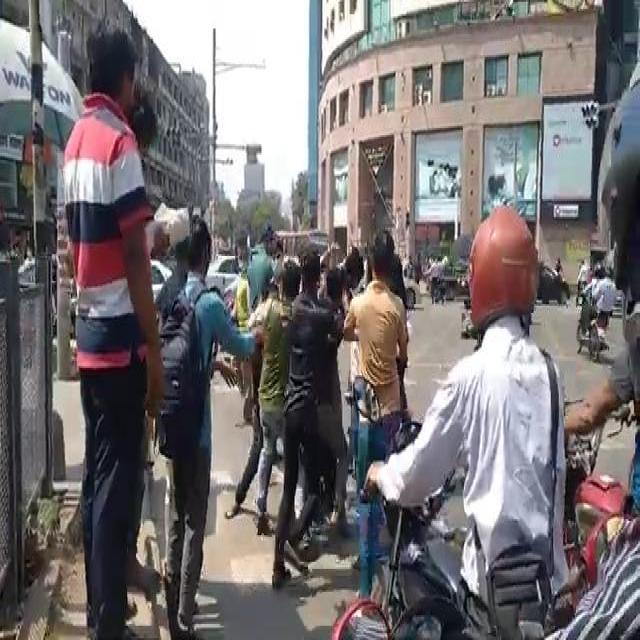fight: (55, 26, 228, 640), (425, 206, 603, 604), (250, 215, 416, 521)
